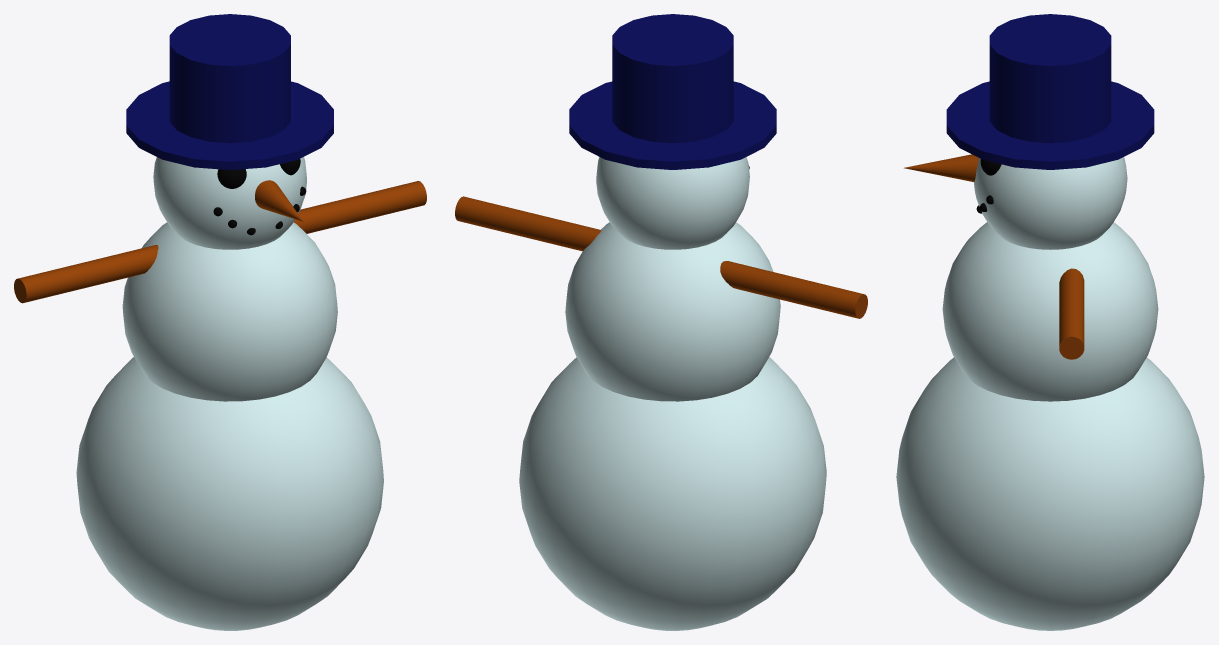
The model's file is Snowman.FBX.
3 renders of one model, left to right at view 1: azimuth 30°, elevation 25°; view 2: azimuth 150°, elevation 25°; view 3: azimuth 270°, elevation 25°, orthographic.
Parts seen in each view (by area): view 1: Sphere001, Sphere002, Cylinder002, Sphere003, Cylinder001, Cylinder003, Cone001; view 2: Sphere001, Sphere002, Cylinder002, Sphere003, Cylinder001, Cylinder003; view 3: Sphere001, Sphere002, Cylinder002, Sphere003, Cylinder001, Cylinder003, Cone001.
Part boxes in pixels (x1,y1,x2,y2): Sphere001: (76, 357, 383, 630); Sphere002: (122, 222, 337, 401); Cylinder002: (169, 14, 290, 143); Sphere003: (153, 157, 306, 249); Cylinder001: (126, 81, 333, 169); Cylinder003: (14, 181, 426, 303); Cone001: (255, 180, 303, 221); Sphere001: (519, 357, 826, 630); Sphere002: (565, 222, 780, 401); Cylinder002: (612, 14, 733, 143); Sphere003: (596, 157, 749, 249); Cylinder001: (569, 81, 776, 169); Cylinder003: (455, 196, 867, 318); Sphere001: (896, 357, 1204, 630); Sphere002: (942, 222, 1158, 401); Cylinder002: (989, 14, 1111, 143); Sphere003: (974, 157, 1127, 249); Cylinder001: (946, 81, 1154, 169); Cylinder003: (1059, 268, 1084, 359); Cone001: (904, 154, 978, 181).
Size of the model in its own units: 59.06 by 81.27 by 39.37.
